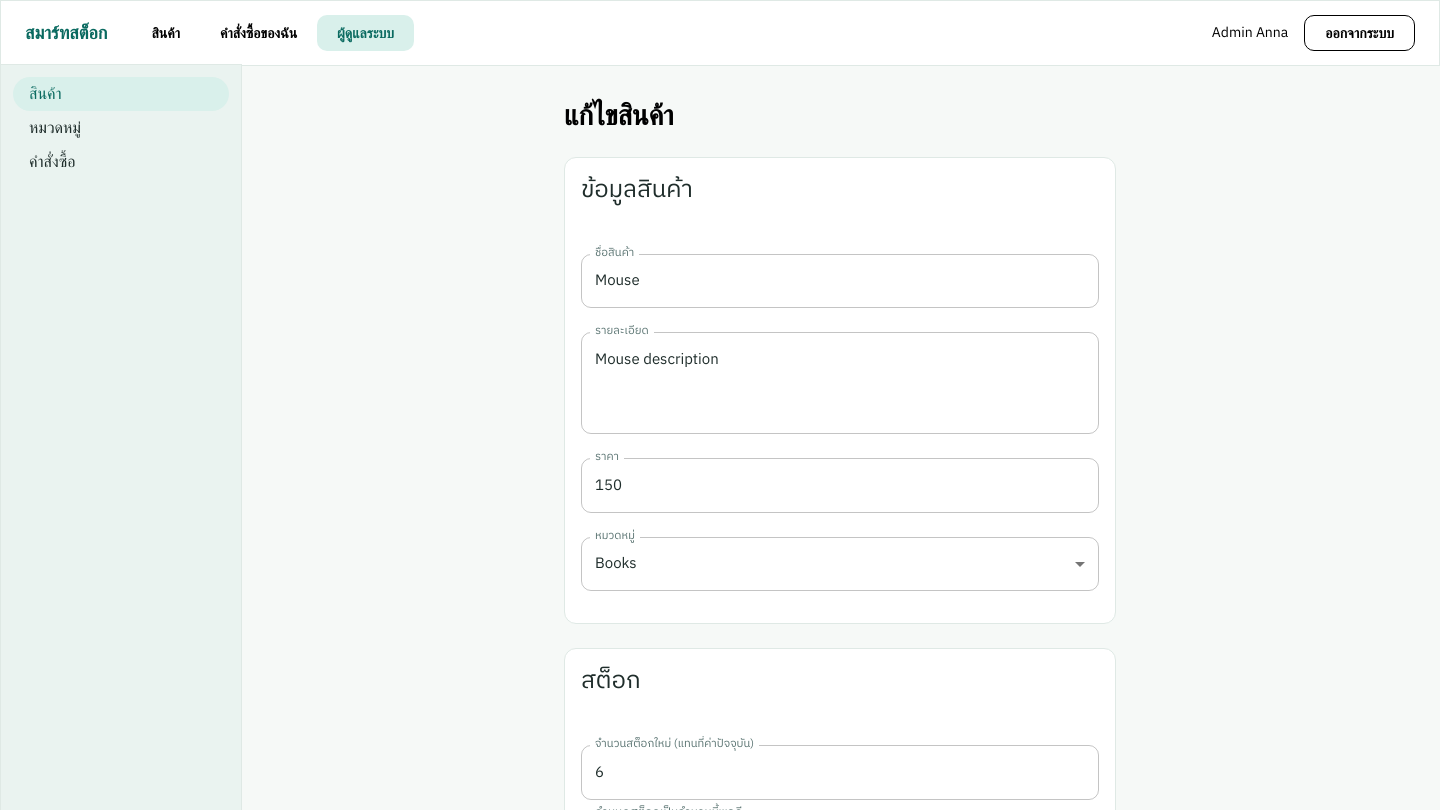
Scenario: reports a partial failure: product saved, stock failed
The width and height of the screenshot is (1440, 810).
Replace the text in the field labelled "ชื่อสินค้า" with "Mouse Y" at (840, 281), box [581,254,1099,308]
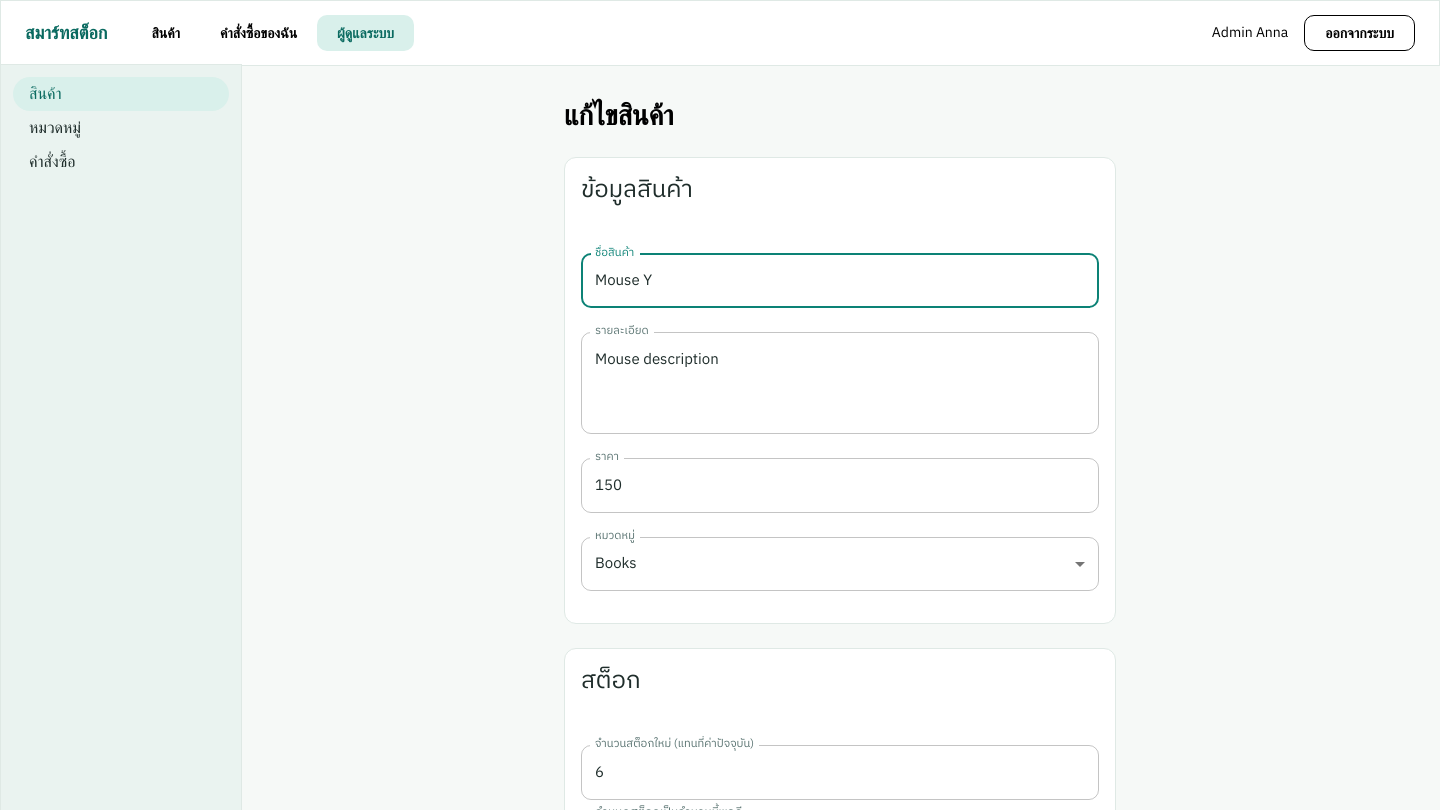
Replace the text in the number field labelled "จำนวนสต็อกใหม่ (แทนที่ค่าปัจจุบัน)" with "50" at (840, 773), box [581,745,1099,800]
(page scrolled)
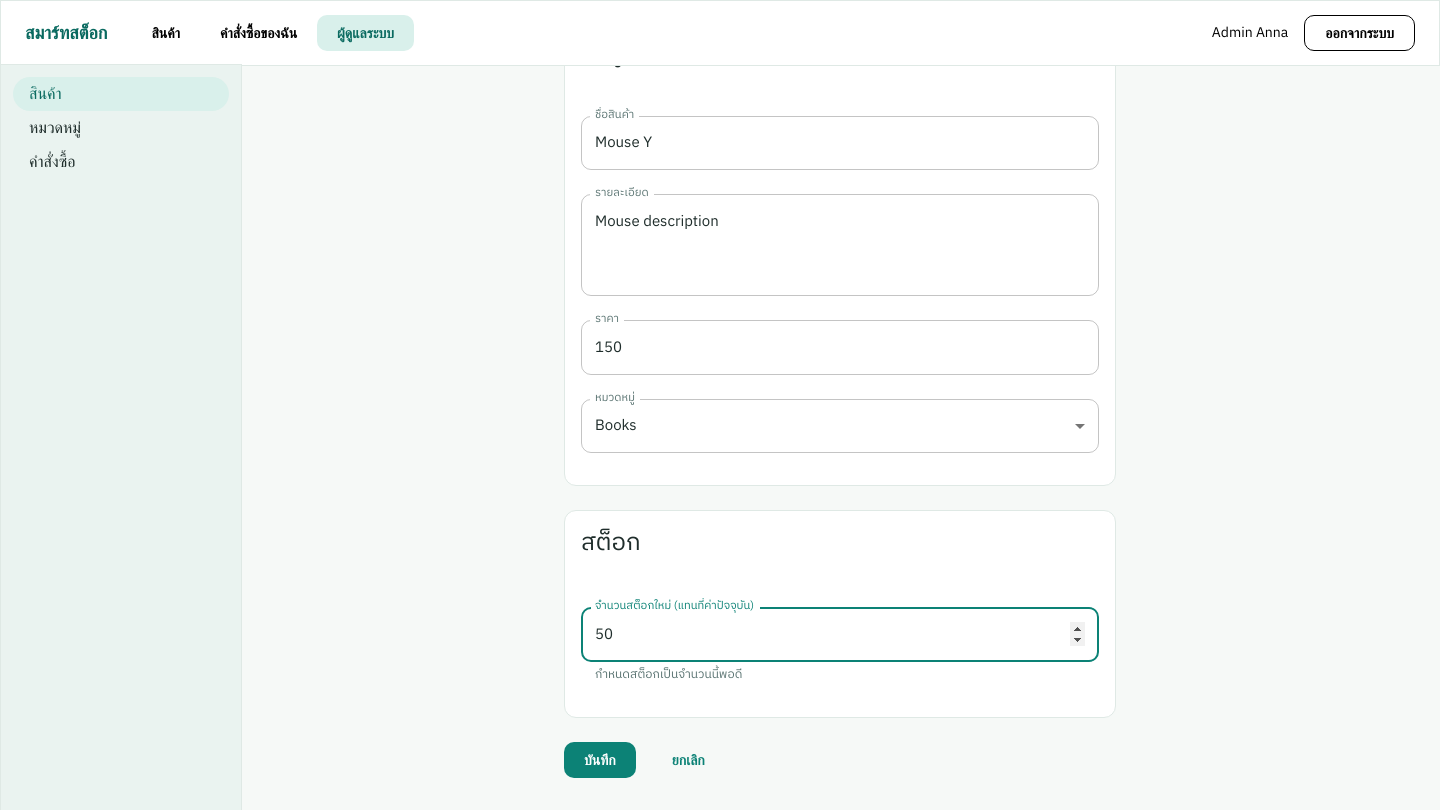
Click the button "บันทึก" at (600, 760), box [564,742,636,778]
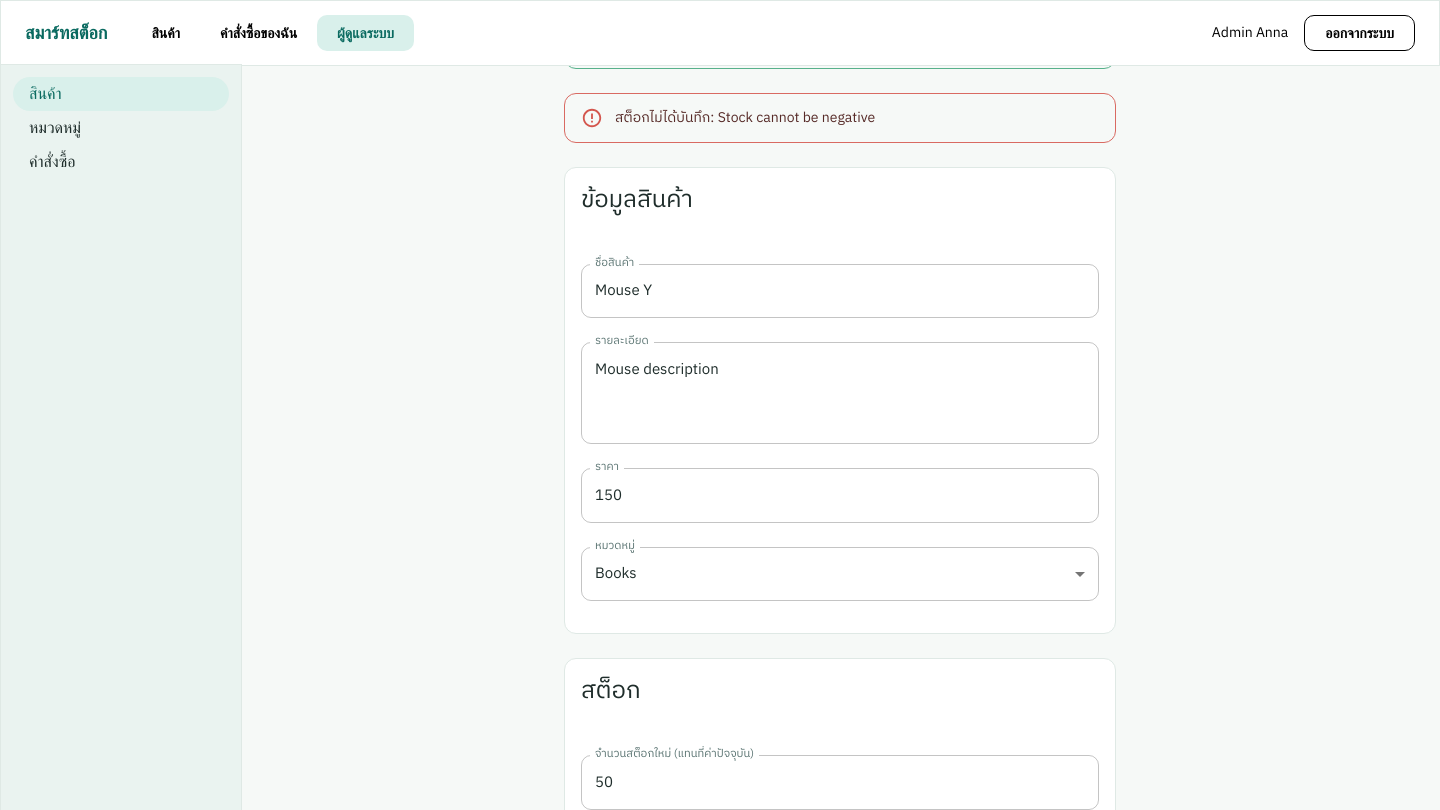
Result: the text "สต็อกไม่ได้บันทึก: Stock cannot be negative" is shown at [615,100,875,136]
